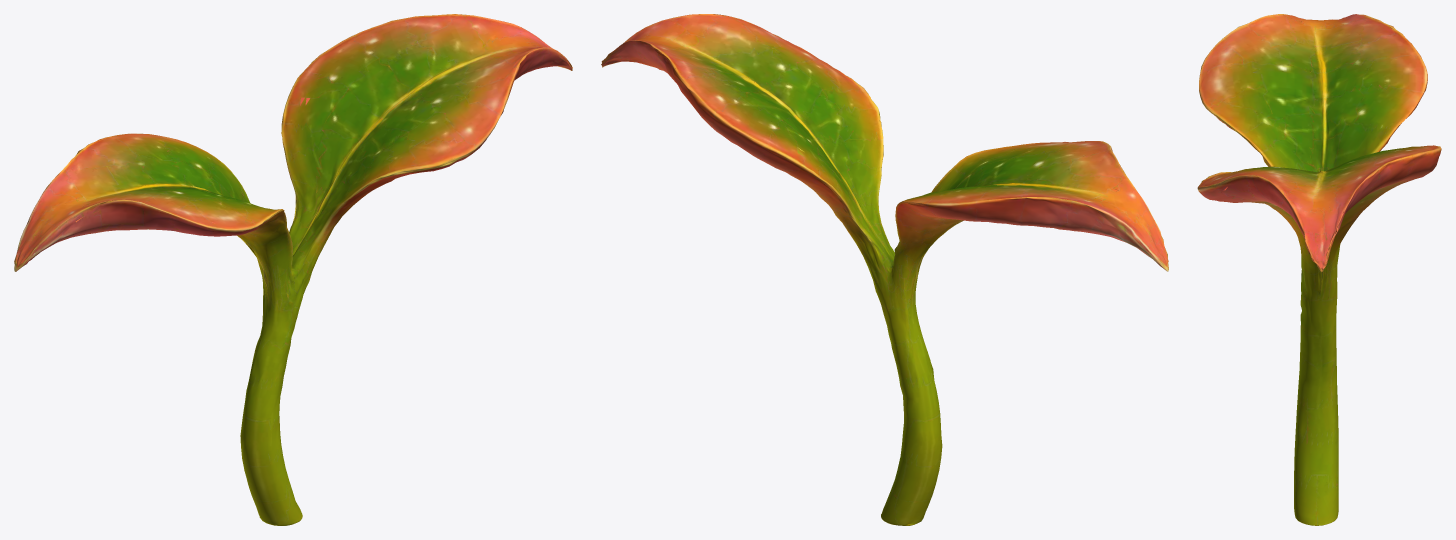
The model's file is sprout_seedling.glb.
3 renders of one model, left to right at view 1: azimuth 30°, elevation 25°; view 2: azimuth 150°, elevation 25°; view 3: azimuth 270°, elevation 25°, orthographic. The views are drawn at different scales.
Parts seen in each view (by area): view 1: geometry_0; view 2: geometry_0; view 3: geometry_0.
Part boxes in pixels (bbox=[...]): geometry_0: bbox=[14, 14, 572, 525]; geometry_0: bbox=[601, 14, 1168, 525]; geometry_0: bbox=[1197, 14, 1441, 525].
Bounding box in the file's own units: 0.9507 × 0.7007 × 0.3398.
1 material, 1 textured.
